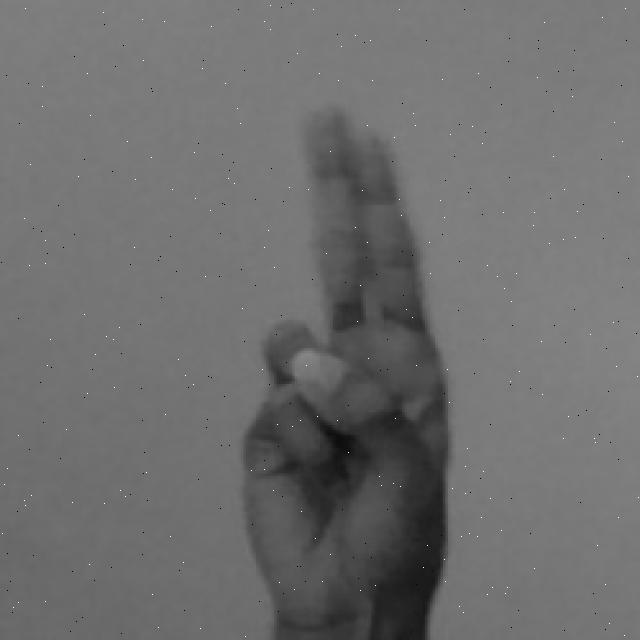U: (235, 102, 466, 640)
